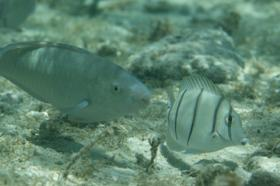Acanthuridae -Surgeonfishes-: (157, 71, 258, 155)
Scaridae -Parrotfishes-: (0, 22, 150, 121)
